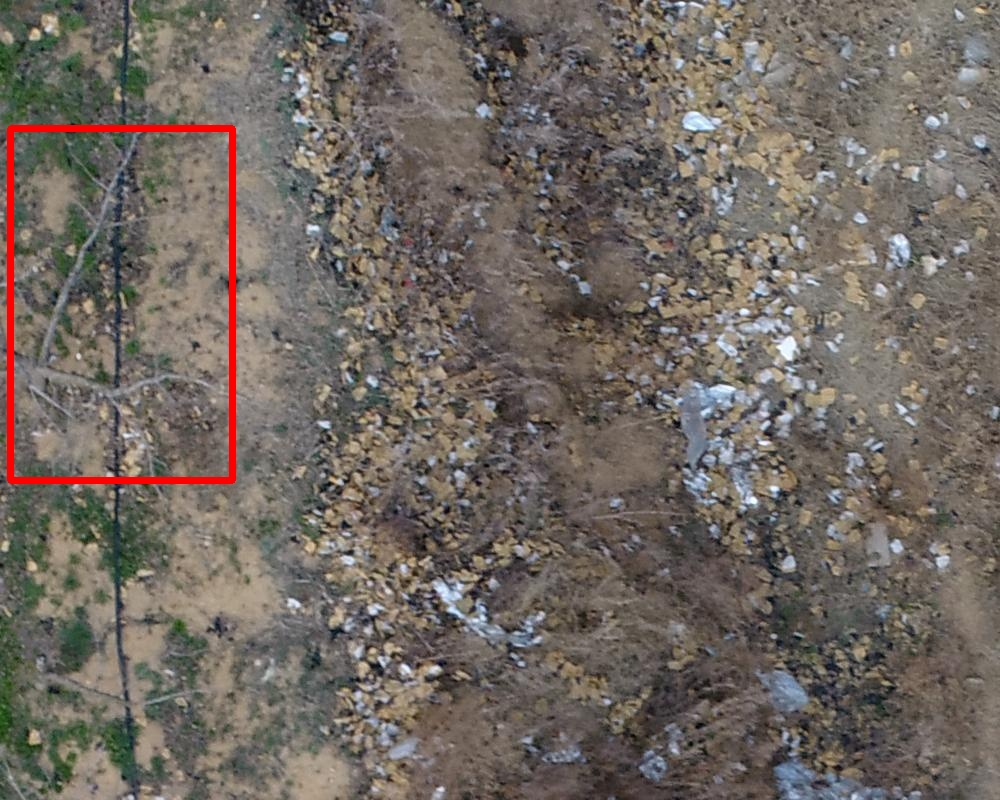apple: (10, 128, 232, 480)
